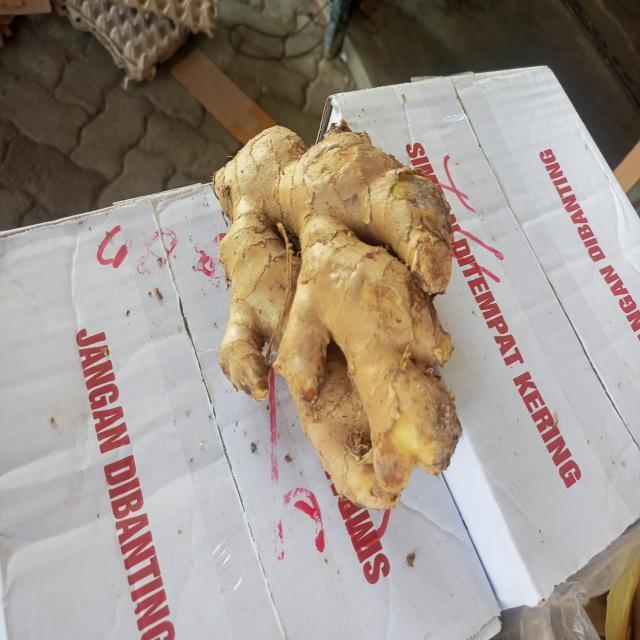ginger: (223, 138, 474, 504)
